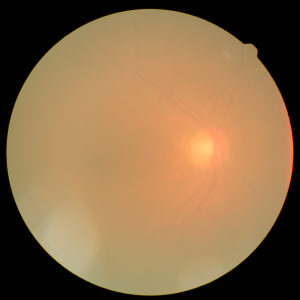cataract: (74, 78, 262, 195)
